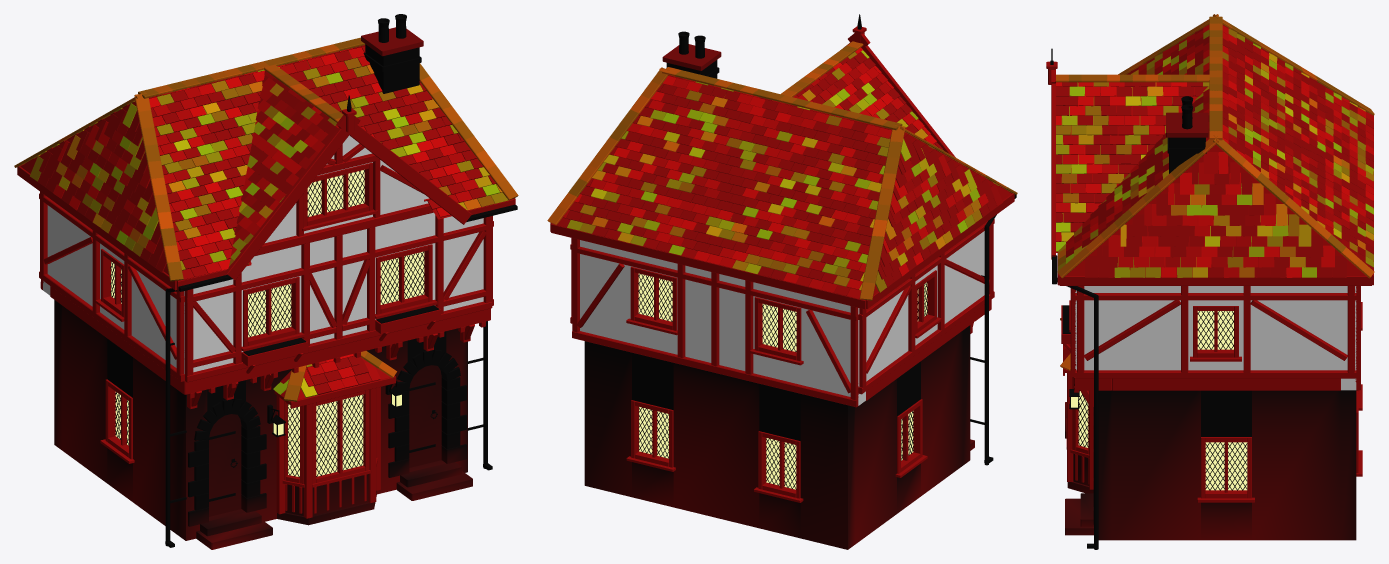
File: SilverbrookTownhouse3.fbx
3 views of the same model, side by side, from view 1: azimuth 30°, elevation 25°; view 2: azimuth 150°, elevation 25°; view 3: azimuth 270°, elevation 25° (orthographic). The views are drawn at different scales.
Visible parts, largest first — view 1: SM_SBTownhouse3_Roof, SM_SBTownhouse3_Timber, SM_SBTownhouse3_Masonry, SM_SBTownhouse3_Details, SM_SBTownhouse3_Plaster; view 2: SM_SBTownhouse3_Roof, SM_SBTownhouse3_Masonry, SM_SBTownhouse3_Timber, SM_SBTownhouse3_Plaster, SM_SBTownhouse3_Details; view 3: SM_SBTownhouse3_Roof, SM_SBTownhouse3_Masonry, SM_SBTownhouse3_Timber, SM_SBTownhouse3_Plaster, SM_SBTownhouse3_Details.
Part boxes in pixels (left/top/right/bottom): SM_SBTownhouse3_Roof: left=14, top=37, right=518, bottom=408; SM_SBTownhouse3_Timber: left=17, top=108, right=515, bottom=518; SM_SBTownhouse3_Masonry: left=54, top=27, right=472, bottom=549; SM_SBTownhouse3_Details: left=110, top=14, right=517, bottom=547; SM_SBTownhouse3_Plaster: left=43, top=135, right=483, bottom=373; SM_SBTownhouse3_Roof: left=547, top=41, right=1017, bottom=300; SM_SBTownhouse3_Masonry: left=584, top=44, right=974, bottom=549; SM_SBTownhouse3_Timber: left=550, top=26, right=1014, bottom=502; SM_SBTownhouse3_Plaster: left=580, top=231, right=984, bottom=405; SM_SBTownhouse3_Details: left=638, top=14, right=1016, bottom=489; SM_SBTownhouse3_Roof: left=1056, top=14, right=1374, bottom=375; SM_SBTownhouse3_Masonry: left=1065, top=112, right=1356, bottom=540; SM_SBTownhouse3_Timber: left=1046, top=61, right=1373, bottom=502; SM_SBTownhouse3_Plaster: left=1075, top=286, right=1356, bottom=390; SM_SBTownhouse3_Details: left=1050, top=48, right=1247, bottom=549.
Bounding box in the file's own units: 765 × 898 × 631.
